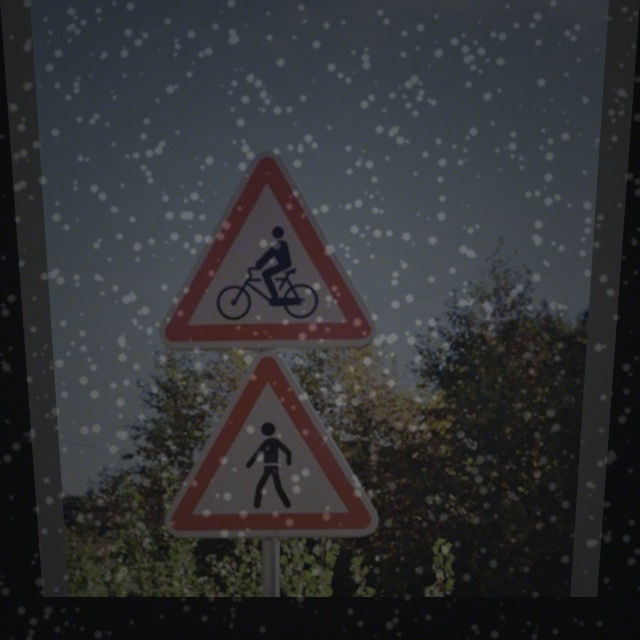Cycle_Crossing: (148, 148, 377, 352)
